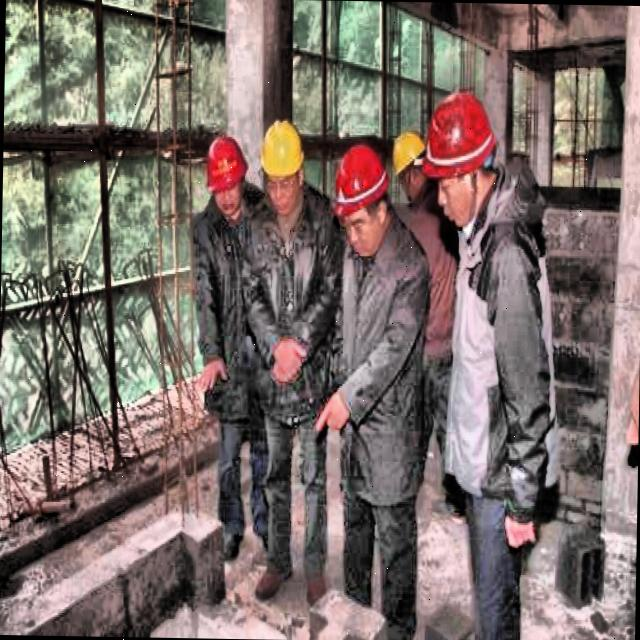helmet: (417, 82, 502, 238), (330, 140, 397, 254), (256, 113, 306, 215), (198, 128, 246, 220), (384, 130, 431, 207)
